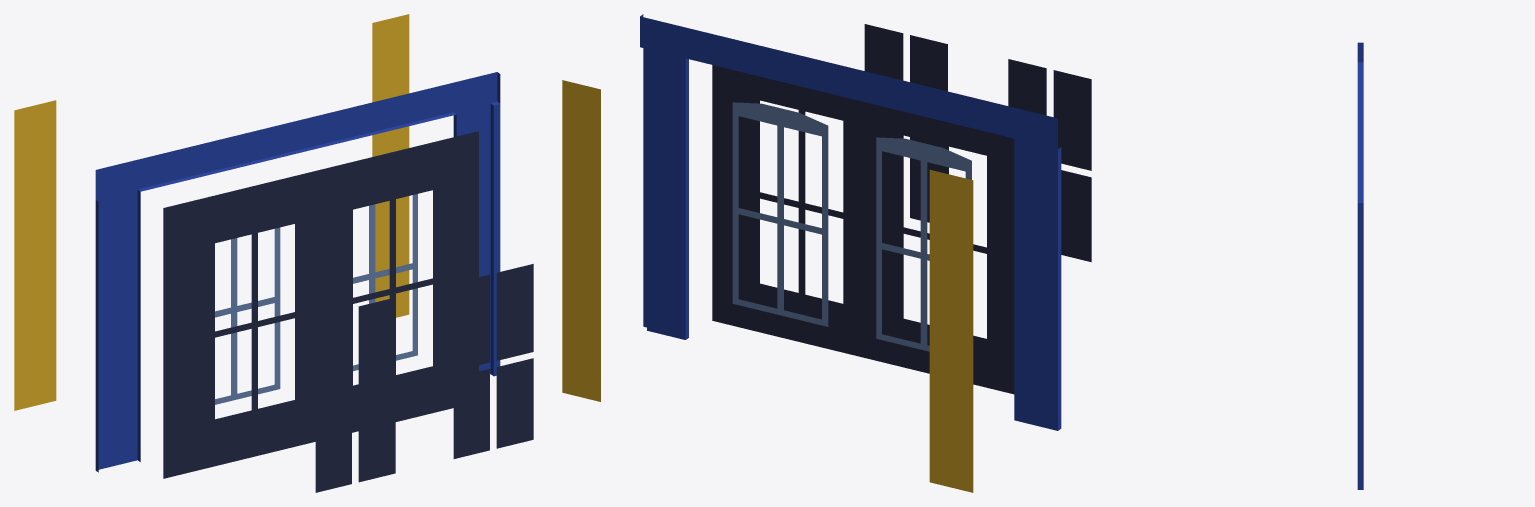
File: galaxy_building_bottom.fbx
The picture shows the model from 3 angles, left to right: view 1: azimuth 30°, elevation 25°; view 2: azimuth 150°, elevation 25°; view 3: azimuth 270°, elevation 25°; orthographic projection. The views are drawn at different scales.
Visible parts, largest first — view 1: galaxy_building_bottom; view 2: galaxy_building_bottom; view 3: galaxy_building_bottom.
Boxes of the visible parts, box(x1,y1,x2,y2) form: galaxy_building_bottom: box(14, 14, 533, 492); galaxy_building_bottom: box(562, 14, 1091, 492); galaxy_building_bottom: box(1357, 42, 1363, 489).
Bounding box in the file's own units: 610 × 436 × 546.
